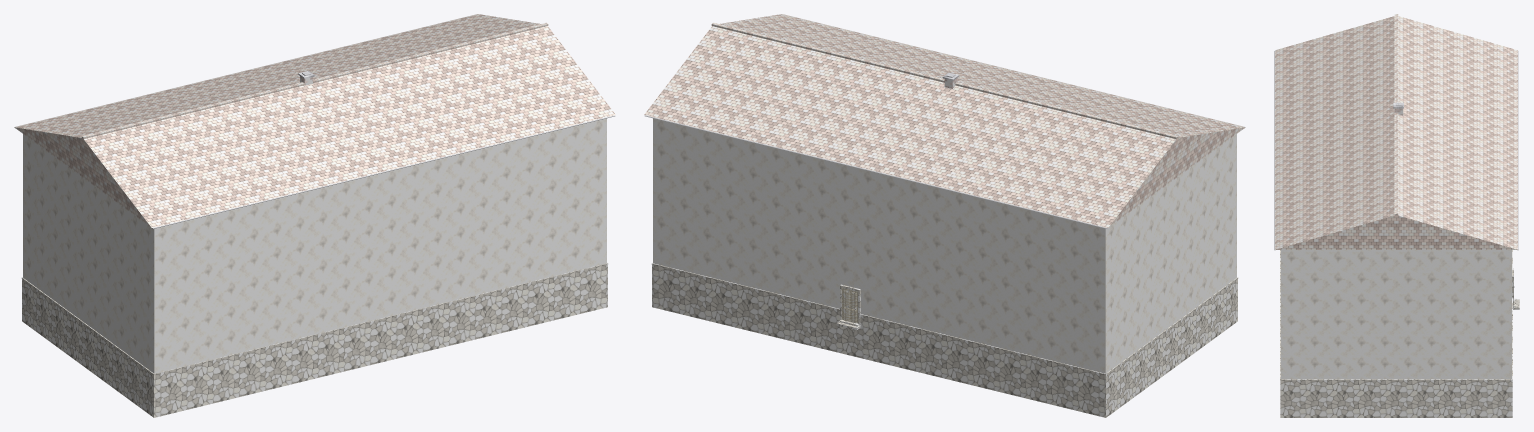
The picture shows the model from 3 angles, left to right: view 1: azimuth 30°, elevation 25°; view 2: azimuth 150°, elevation 25°; view 3: azimuth 270°, elevation 25°; orthographic projection. The views are drawn at different scales.
Visible parts, largest first — view 1: b1085383214; view 2: b1085383214; view 3: b1085383214.
Boxes of the visible parts, x1,y1,x2,y2 form: b1085383214: [14, 14, 615, 417]; b1085383214: [644, 14, 1245, 417]; b1085383214: [1274, 14, 1519, 417].
Bounding box in the file's own units: 28.34 × 14.1 × 14.7.
Materials: 14 (14 with a texture image).
